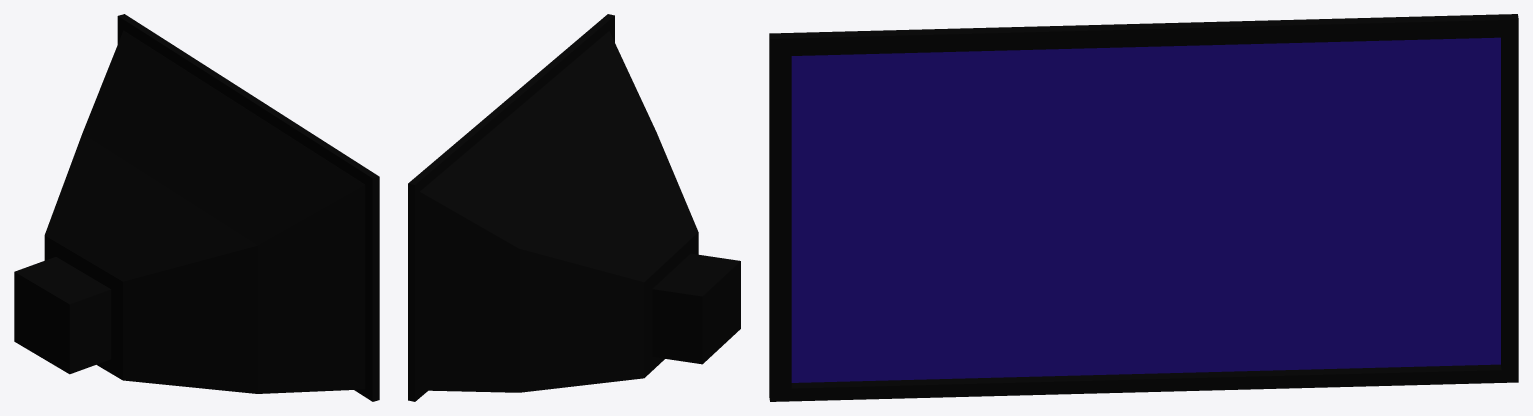
The picture shows the model from 3 angles, left to right: view 1: azimuth 30°, elevation 25°; view 2: azimuth 150°, elevation 25°; view 3: azimuth 270°, elevation 25°; orthographic projection. The views are drawn at different scales.
Visible parts, largest first — view 1: Cube; view 2: Cube; view 3: Cube.
Boxes of the visible parts, <box> form: Cube: <box>14,14,379,401</box>; Cube: <box>408,14,740,401</box>; Cube: <box>769,14,1518,401</box>.
Size of the model in its own units: 1.64 by 1.51 by 2.83.
